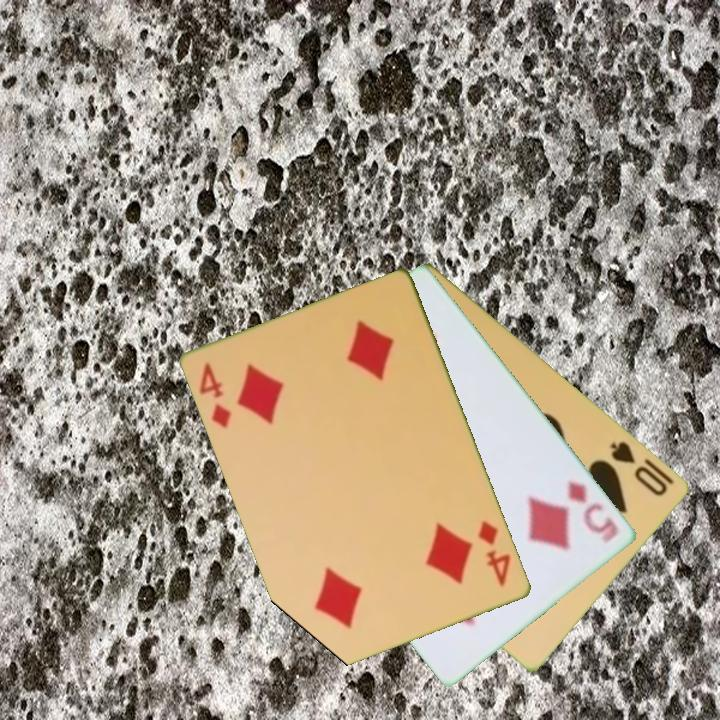10s: (607, 437, 671, 499)
4d: (475, 517, 515, 590), (196, 358, 235, 432)
5d: (565, 476, 622, 546)
